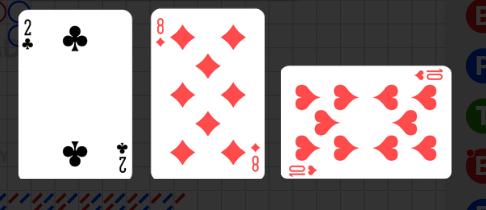10H: (412, 69, 444, 83), (288, 164, 319, 178)
2C: (22, 18, 36, 52)
